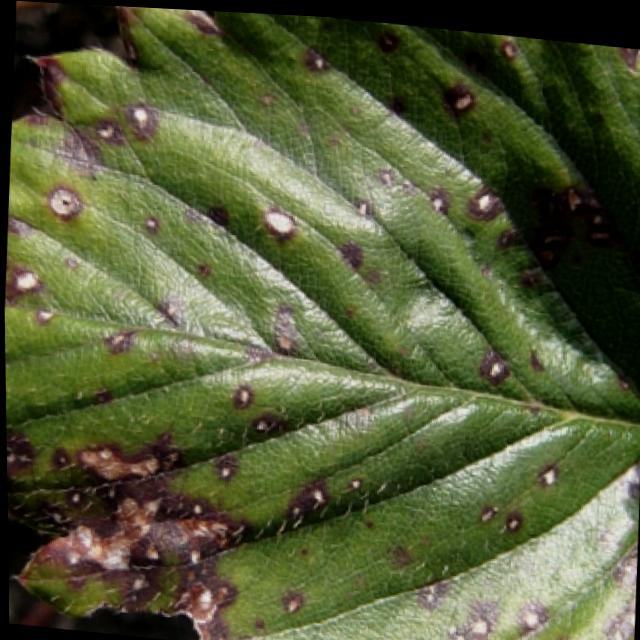Leaf Spot: (4, 5, 640, 640)
